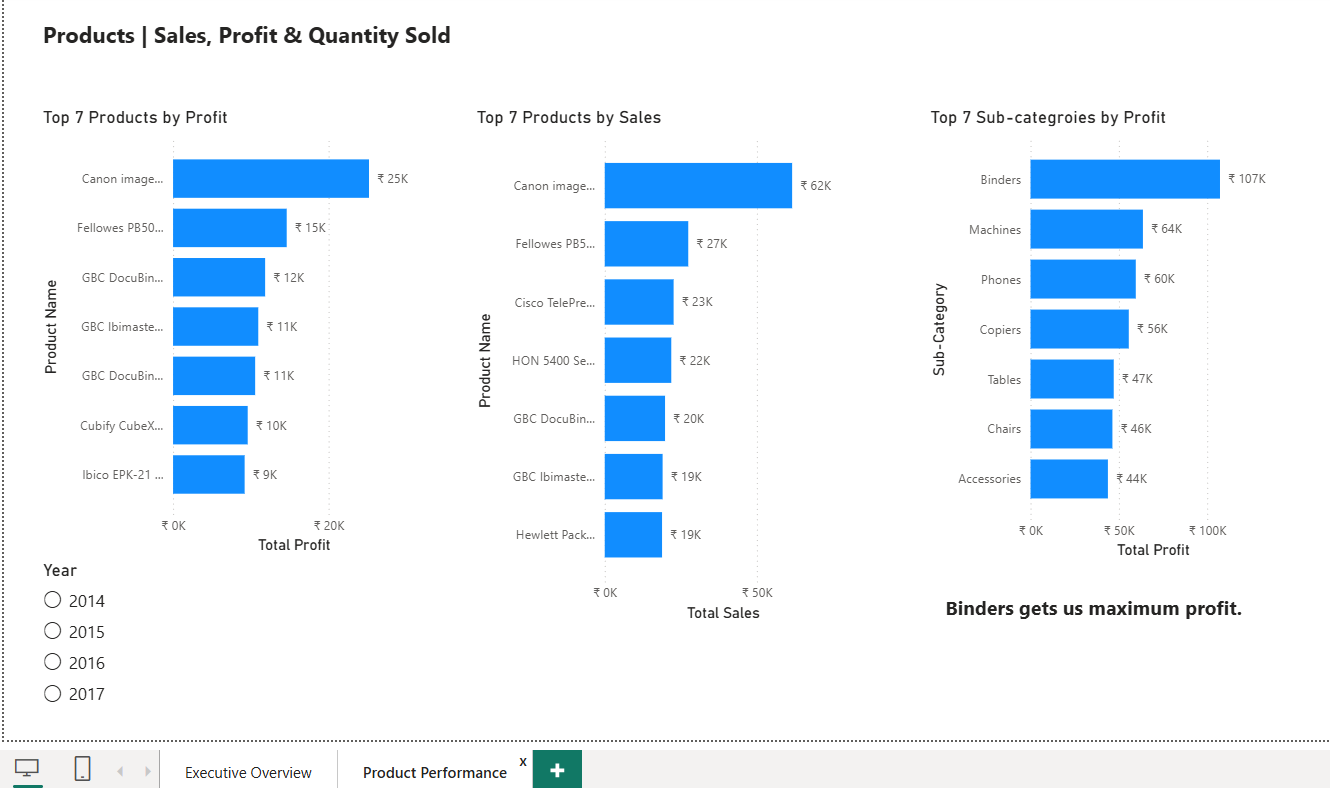

What the dashboard file says about the page in this screenshot:
{"tool":"powerbi","page":{"name":"Product Performance","canvas":[1280,720],"ordinal":1},"visuals":[{"type":"clusteredBarChart","title":"Top 7 Products by Profit","fields":{"Category":["Table1.Product Name"],"Y":["Table1.Total Profit"]},"box":[32.6,108.6,384.9,436.7],"z":0},{"type":"clusteredBarChart","title":"Top 7 Products by Sales","fields":{"Category":["Table1.Product Name"],"Y":["Table1.Total Sales"]},"box":[451.2,108.6,377.6,501.9],"z":1000},{"type":"clusteredBarChart","title":"Top 7 Sub-categroies by Profit","fields":{"Category":["Table1.Sub-Category"],"Y":["Table1.Total Profit"]},"box":[889.1,108.6,363.1,441.6],"z":2000},{"type":"listSlicer","fields":{"Values":["Table1.Order Date.Variation.Date Hierarchy.Year"]},"box":[32.6,545.3,115.8,152],"z":3000},{"type":"textbox","box":[32.6,19.3,418.6,44.6],"z":4000},{"type":"textbox","box":[875.9,574.3,387.3,47.1],"z":5000},{"type":"textbox","box":[903.6,574.3,334.2,51.9],"z":6000}]}

Visuals, with their boxes on the page's 1280x720 design canvas (x1, y1, x2, y2). These are canvas units, not pixel positions in the 1330x788 screenshot, which may show the page scaled, cropped or inside an application window:
"Top 7 Products by Profit" clusteredBarChart: crop(33, 109, 418, 545)
"Top 7 Products by Sales" clusteredBarChart: crop(451, 109, 829, 610)
"Top 7 Sub-categroies by Profit" clusteredBarChart: crop(889, 109, 1252, 550)
listSlicer - Table1.Order Date.Variation.Date Hierarchy.Year: crop(33, 545, 148, 697)
textbox: crop(33, 19, 451, 64)
textbox: crop(876, 574, 1263, 621)
textbox: crop(904, 574, 1238, 626)
